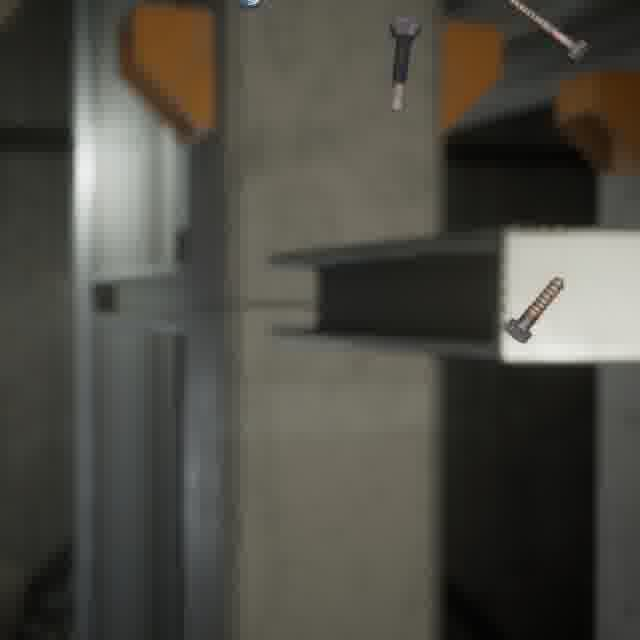bolt: (500, 0, 592, 67), (500, 272, 568, 348), (385, 12, 425, 114)
